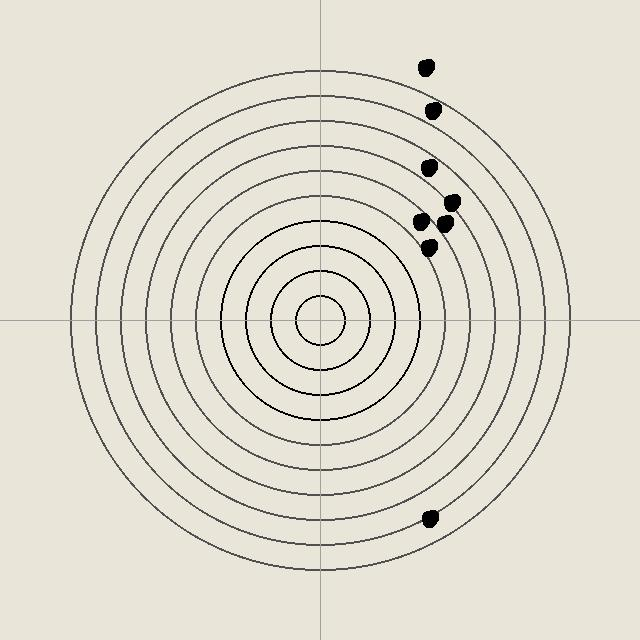vertical_scatter: (419, 508, 439, 528), (422, 100, 442, 120), (441, 192, 461, 212), (418, 237, 438, 257), (415, 57, 435, 77), (410, 211, 430, 231), (434, 213, 454, 233), (418, 157, 438, 177)
